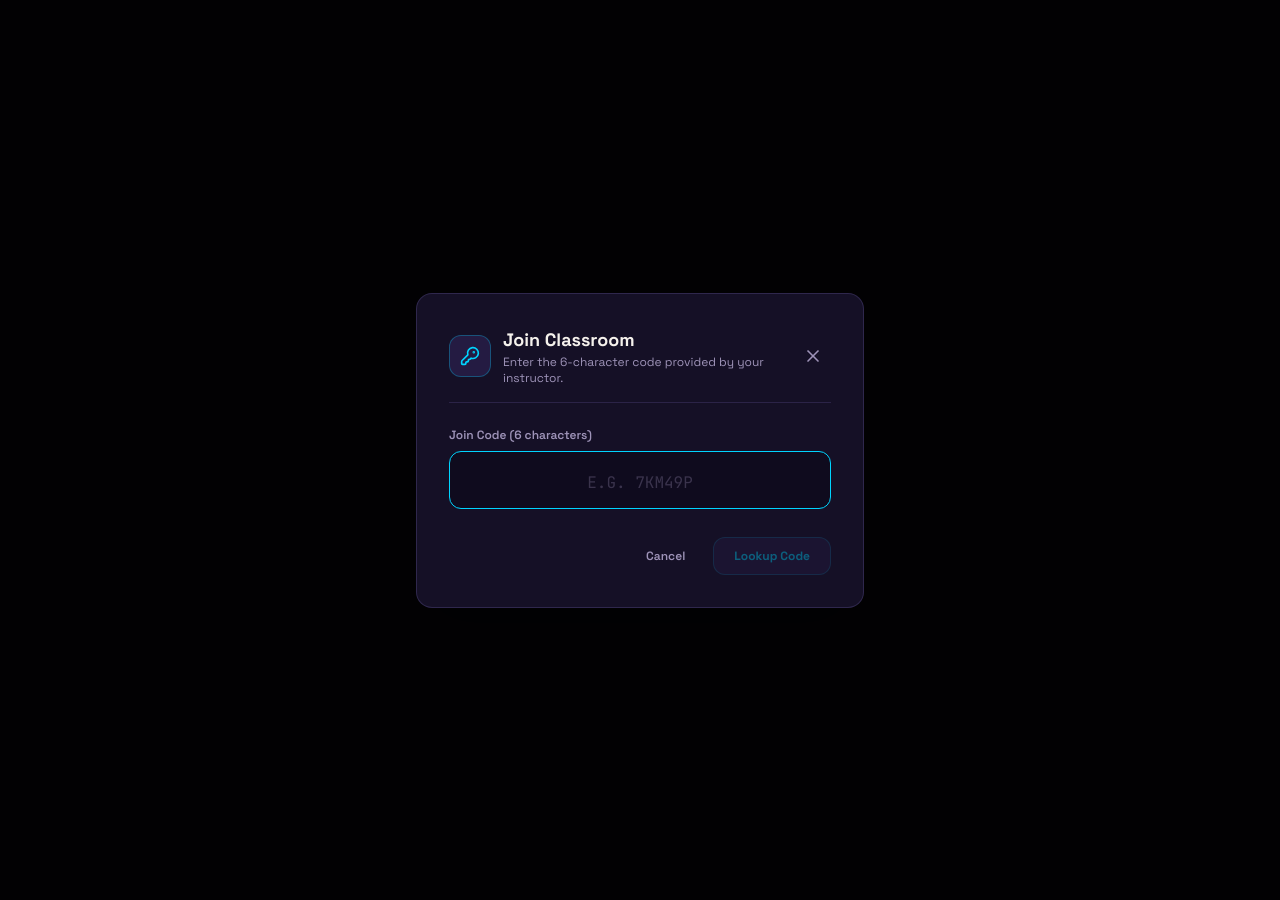
Test: Classroom Entry & Management Flow (Parts B - G) › Part D: Join Code Normalization and Preview Confirmation › displays uniform generic failure message when preview fails
Type "BAD123" into the field with test id "join-code-input".
click(640, 480); type("BAD123")  # box [449,450,831,508]
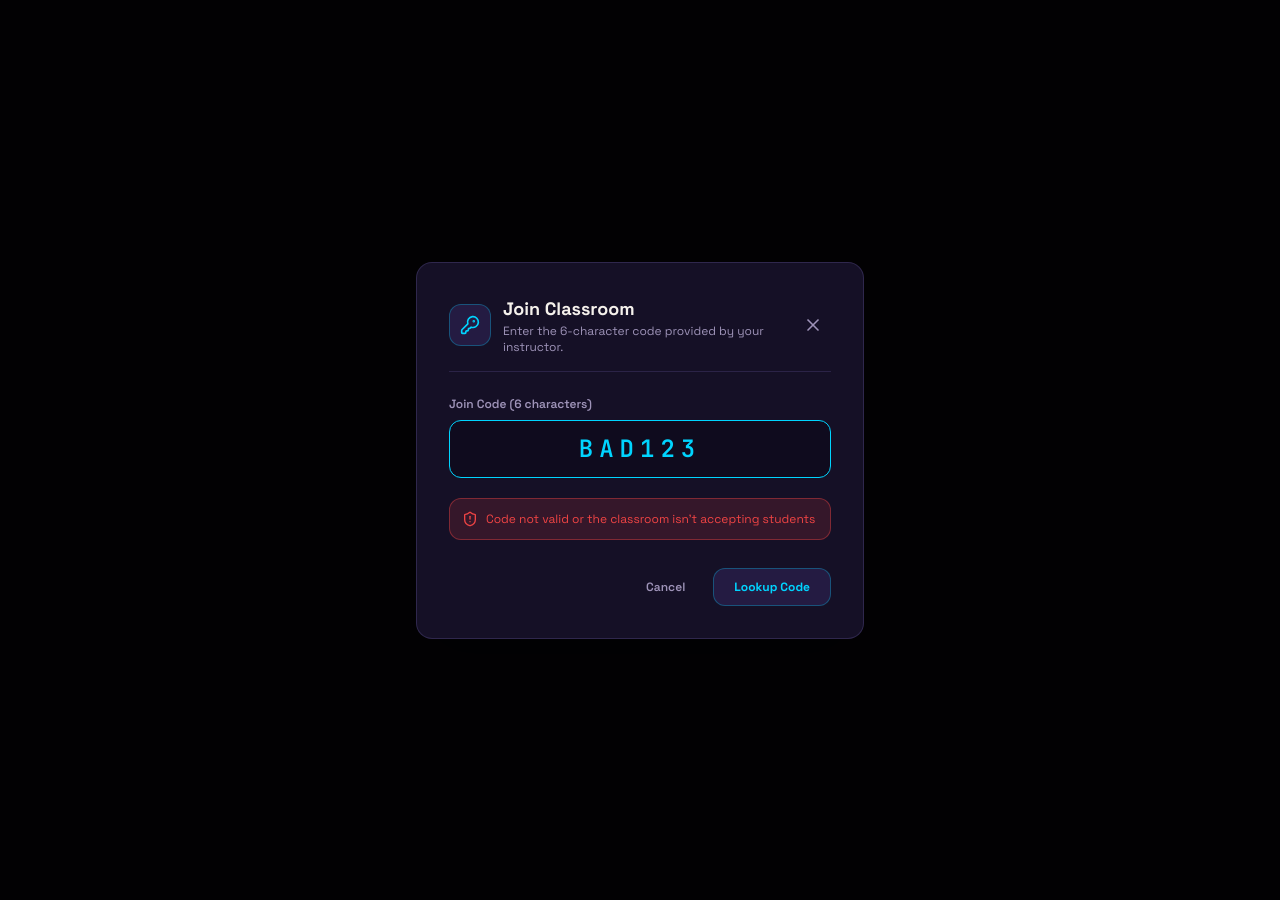
Expected: the element with test id "join-error-banner" is shown, [449,498,831,540]
Expected: the text "Code not valid or the classroom isn't accepting students" is shown, [486,510,815,526]
